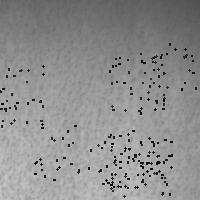pitted_surface: (2, 37, 178, 197), (111, 133, 170, 193), (97, 130, 157, 187), (109, 53, 163, 112), (34, 123, 90, 179), (111, 151, 171, 200), (0, 65, 42, 125), (149, 43, 200, 88)
